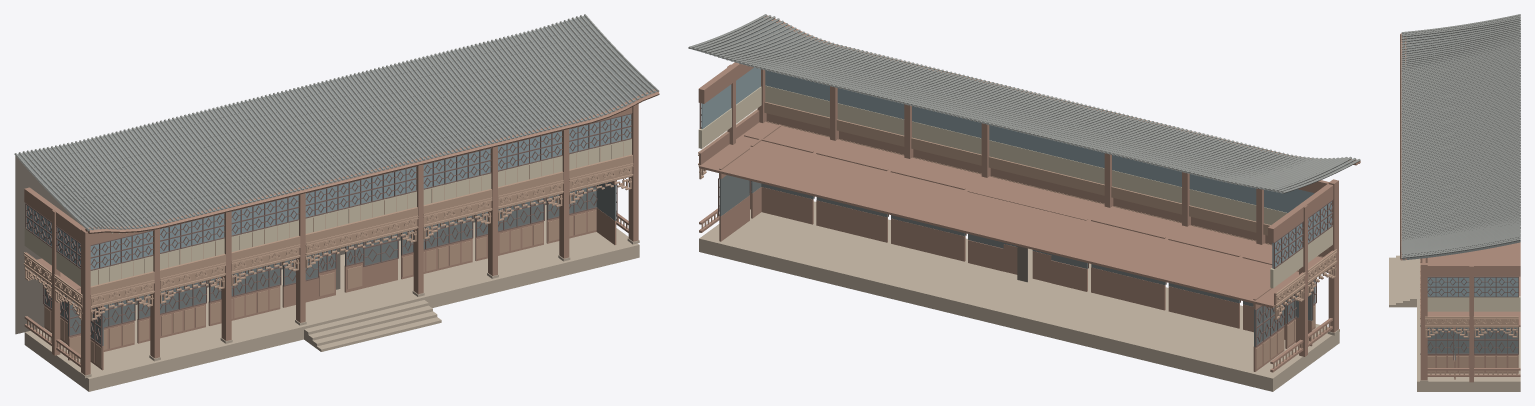
File: jingan-jueyuan-xiangguang-hall-raw.glb
The picture shows the model from 3 angles, left to right: view 1: azimuth 30°, elevation 25°; view 2: azimuth 150°, elevation 25°; view 3: azimuth 270°, elevation 25°; orthographic projection. The views are drawn at different scales.
Parts seen in each view (by area): view 1: 觉园香光堂临院木廊; view 2: 觉园香光堂临院木廊; view 3: 觉园香光堂临院木廊.
Boxes of the visible parts, x1,y1,x2,y2 form: 觉园香光堂临院木廊: [14, 14, 659, 391]; 觉园香光堂临院木廊: [688, 14, 1360, 391]; 觉园香光堂临院木廊: [1389, 14, 1520, 391].
Size of the model in its own units: 25.61 by 8.33 by 6.33.
